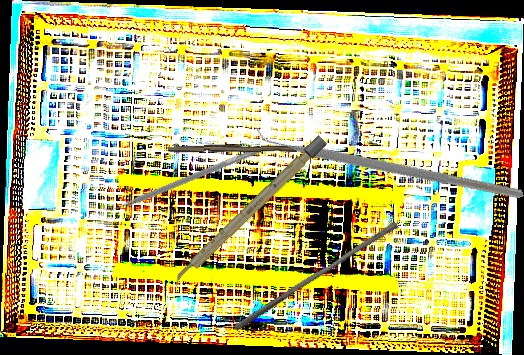Chopper: (254, 42, 524, 275)
Pusher: (233, 215, 399, 338)
Scalpel Handle: (169, 134, 328, 289), (167, 141, 298, 155)
Spatula Surgical: (100, 139, 262, 219)
